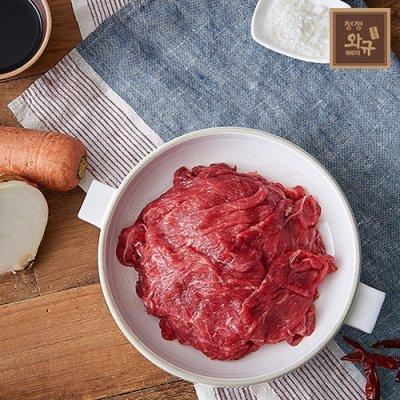beef: (92, 119, 193, 212)
